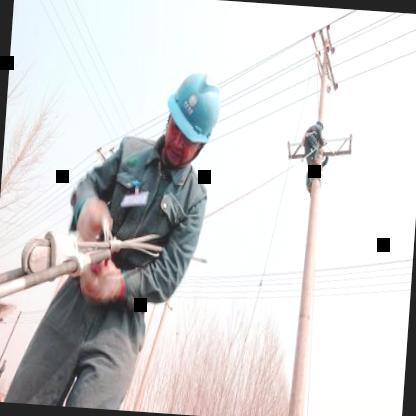helmet: (158, 57, 230, 178)
